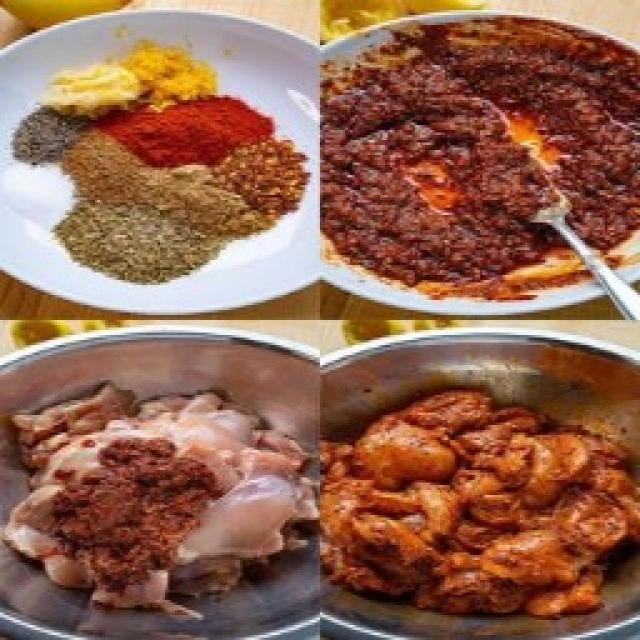Harissa: (325, 18, 640, 299)
